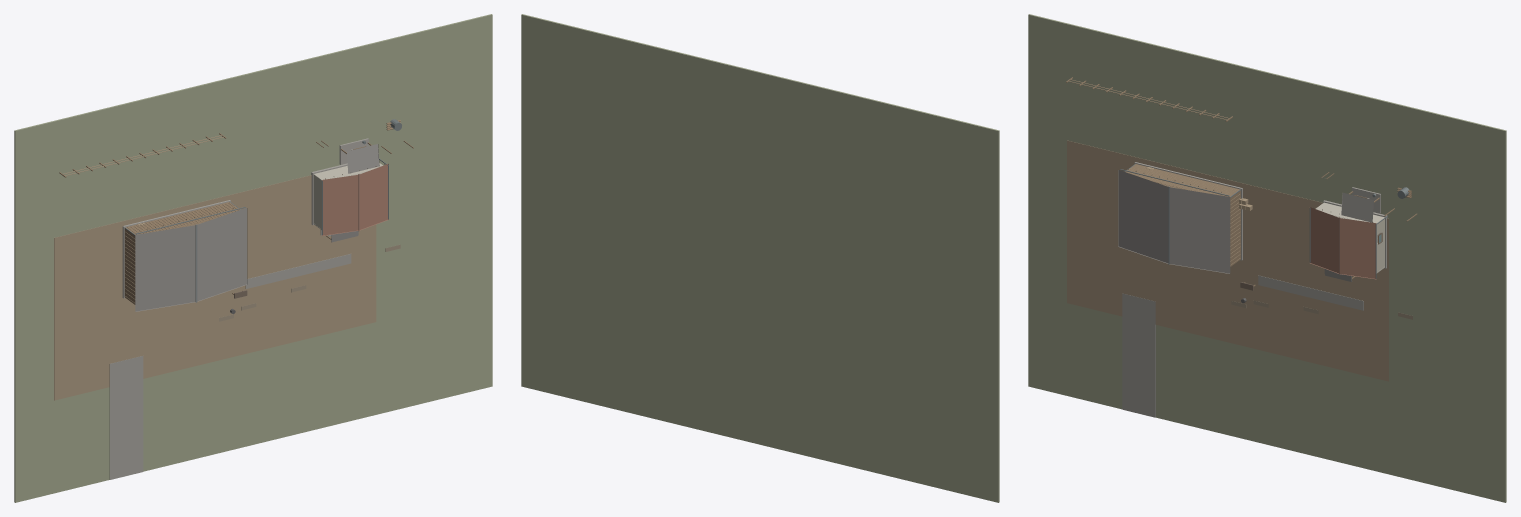
The model's file is LRP03_prepared.glb.
3 views of the same model, side by side, from view 1: azimuth 30°, elevation 25°; view 2: azimuth 150°, elevation 25°; view 3: azimuth 330°, elevation 25° (orthographic).
Visible parts, largest first — view 1: LRP03_SOLO_PLANO_0001_0001, LRP03_TERREIRO_DE_TERRA_0002_0002, GALPAO_AGUA_OESTE_0008_0012, LRP03_CAMINHO_ACESSO_0003_0003, GALPAO_AGUA_LESTE_0009_0013, CASA_AGUA_SUL_0122_0126, CASA_AGUA_NORTE_0123_0127, GALPAO_PAREDE_FUNDO_0002_0006, LRP03_CAMINHO_CASA_GALPAO_0004_0004, GALPAO_LATERAL_ESQUERDA_0003_0007, CASA_ANEXO_COBERTURA_0132_0136; view 2: LRP03_SOLO_PLANO_0001_0001; view 3: LRP03_SOLO_PLANO_0001_0001, LRP03_TERREIRO_DE_TERRA_0002_0002, GALPAO_AGUA_LESTE_0009_0013, LRP03_CAMINHO_ACESSO_0003_0003, GALPAO_AGUA_OESTE_0008_0012, CASA_AGUA_NORTE_0123_0127, CASA_AGUA_SUL_0122_0126, GALPAO_PAREDE_FUNDO_0002_0006, LRP03_CAMINHO_CASA_GALPAO_0004_0004, CASA_ANEXO_COBERTURA_0132_0136, GALPAO_LATERAL_DIREITA_0004_0008.
Boxes of the visible parts, box(x1,y1,x2,y2) form: LRP03_SOLO_PLANO_0001_0001: box(14, 14, 492, 502); LRP03_TERREIRO_DE_TERRA_0002_0002: box(54, 175, 376, 400); GALPAO_AGUA_OESTE_0008_0012: box(135, 225, 195, 311); LRP03_CAMINHO_ACESSO_0003_0003: box(109, 356, 143, 479); GALPAO_AGUA_LESTE_0009_0013: box(197, 208, 247, 301); CASA_AGUA_SUL_0122_0126: box(322, 175, 358, 235); CASA_AGUA_NORTE_0123_0127: box(359, 164, 388, 230); GALPAO_PAREDE_FUNDO_0002_0006: box(125, 202, 239, 235); LRP03_CAMINHO_CASA_GALPAO_0004_0004: box(245, 254, 351, 288); GALPAO_LATERAL_ESQUERDA_0003_0007: box(124, 227, 135, 304); CASA_ANEXO_COBERTURA_0132_0136: box(347, 144, 379, 173); LRP03_SOLO_PLANO_0001_0001: box(521, 14, 999, 502); LRP03_SOLO_PLANO_0001_0001: box(1028, 14, 1506, 502); LRP03_TERREIRO_DE_TERRA_0002_0002: box(1067, 140, 1388, 381); GALPAO_AGUA_LESTE_0009_0013: box(1169, 187, 1230, 273); LRP03_CAMINHO_ACESSO_0003_0003: box(1122, 293, 1155, 417); GALPAO_AGUA_OESTE_0008_0012: box(1118, 170, 1168, 263); CASA_AGUA_NORTE_0123_0127: box(1340, 218, 1376, 279); CASA_AGUA_SUL_0122_0126: box(1309, 207, 1338, 273); GALPAO_PAREDE_FUNDO_0002_0006: box(1125, 164, 1239, 198); LRP03_CAMINHO_CASA_GALPAO_0004_0004: box(1258, 275, 1363, 310); CASA_ANEXO_COBERTURA_0132_0136: box(1341, 192, 1373, 222); GALPAO_LATERAL_DIREITA_0004_0008: box(1230, 189, 1240, 266).
Size of the model in its own units: 86 by 64 by 6.67.
